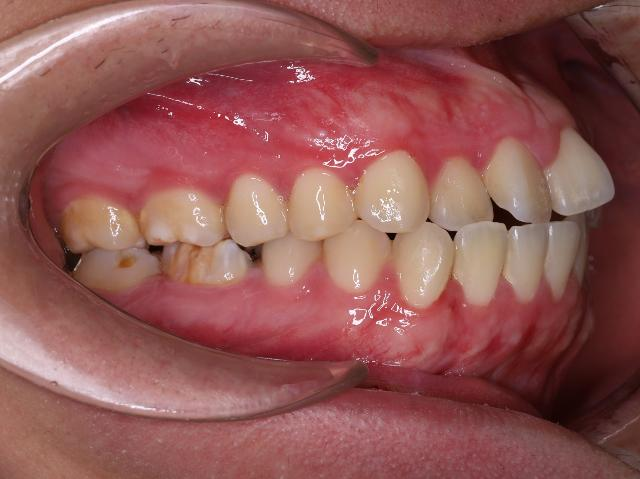canine class I: (324, 148, 454, 312)
molar class II 1/2: (139, 186, 249, 294)
